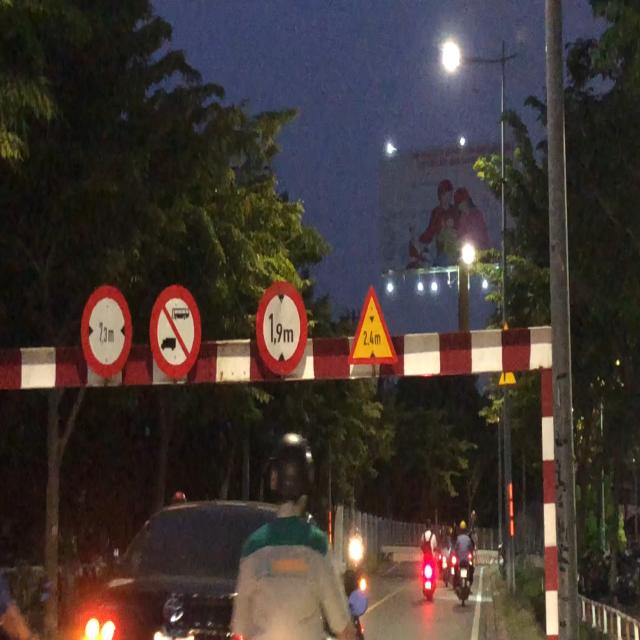Bien bao cam xe oto khach va xe oto tai: (147, 282, 210, 392)
Bien bao chieu cao tinh khong thuc te: (343, 279, 399, 374)
Bien bao han che chieu cao: (256, 275, 309, 383)
